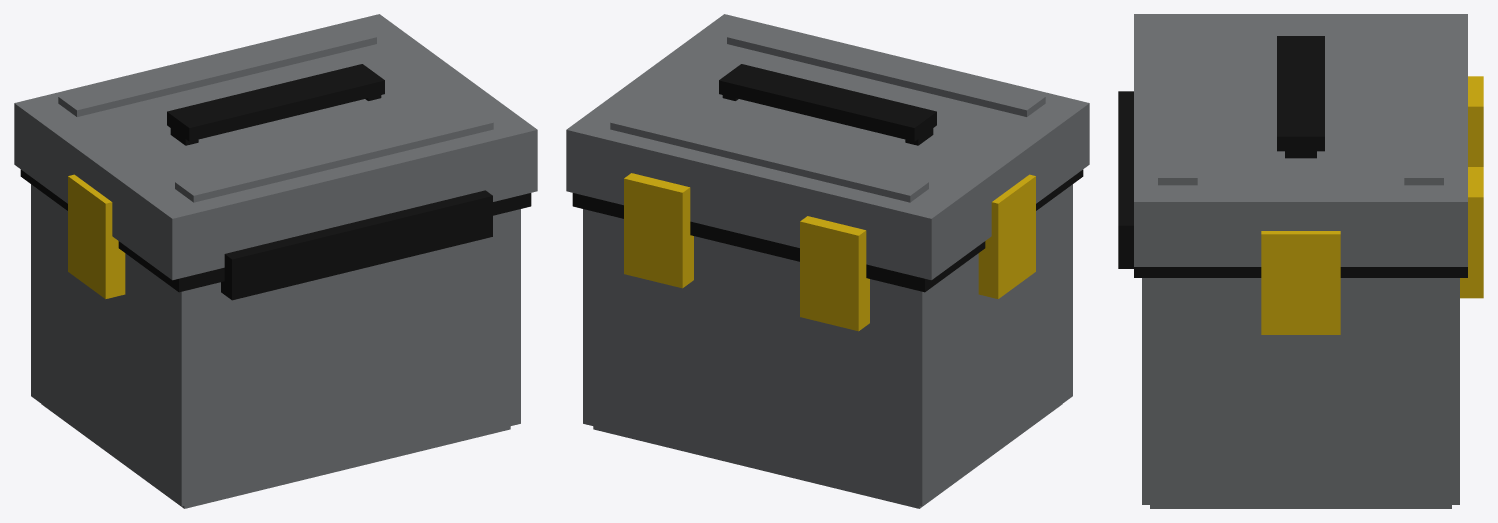
File: box_small_plastic.glb
3 views of the same model, side by side, from view 1: azimuth 30°, elevation 25°; view 2: azimuth 150°, elevation 25°; view 3: azimuth 270°, elevation 25° (orthographic). The views are drawn at different scales.
Parts seen in each view (by area): view 1: box_small_plastic:compound; view 2: box_small_plastic:compound; view 3: box_small_plastic:compound.
Part boxes in pixels (x1,y1,x2,y2): box_small_plastic:compound: (14, 14, 537, 508); box_small_plastic:compound: (566, 14, 1089, 508); box_small_plastic:compound: (1118, 14, 1483, 508).
Bounding box in the file's own units: 0.232 × 0.188 × 0.184.
